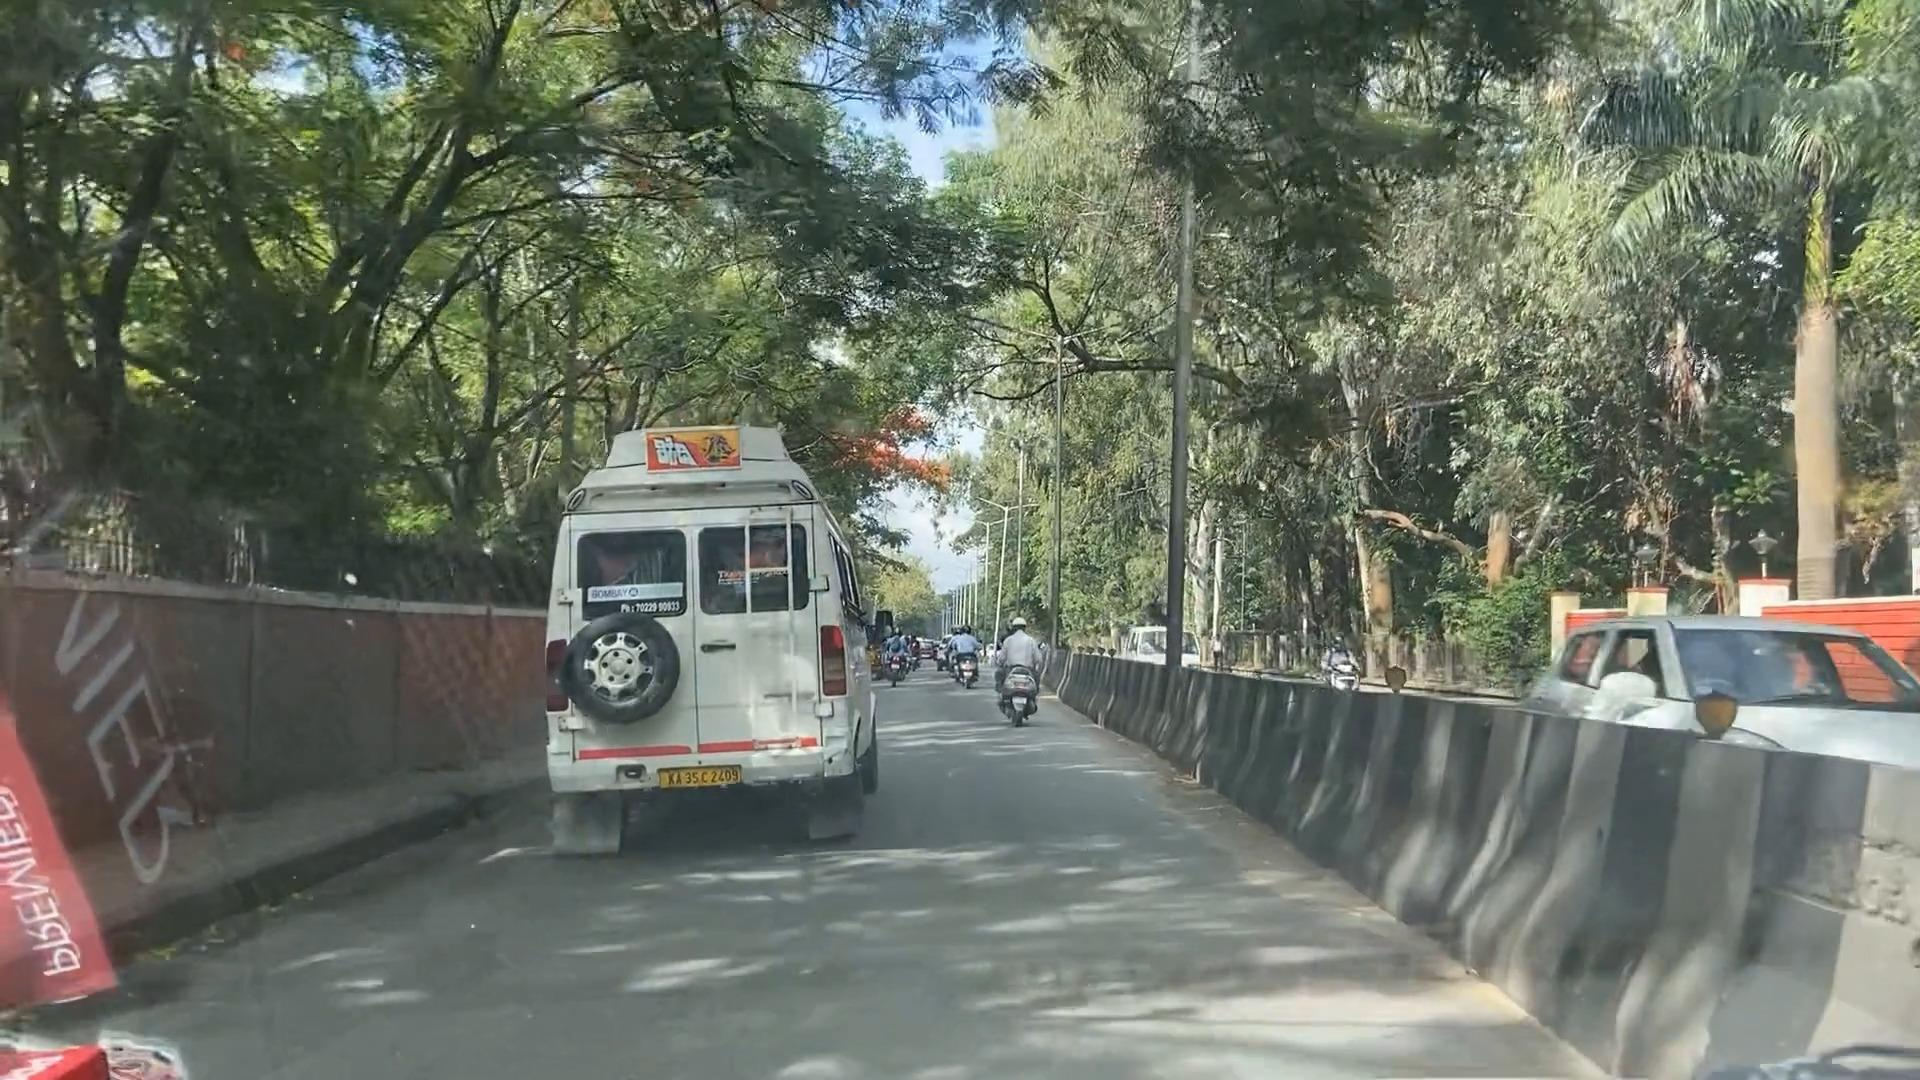HMV: (546, 454, 847, 833)
LMV: (1004, 622, 1033, 713), (952, 620, 972, 682)
